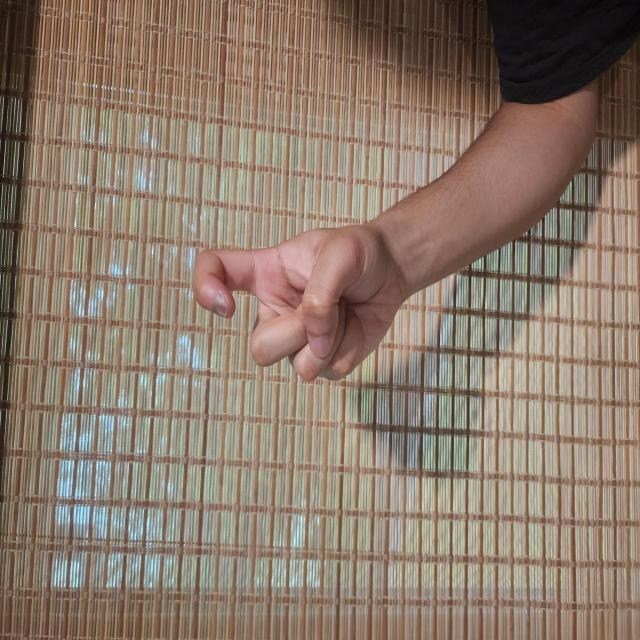X: (186, 251, 322, 537)
